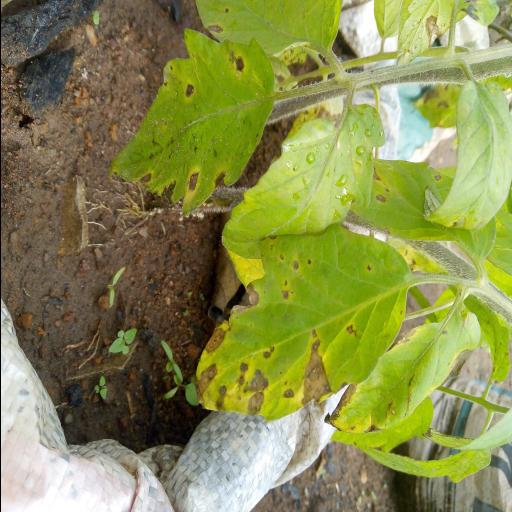Early Blight: (191, 220, 411, 424), (110, 27, 278, 213)
